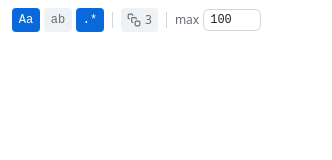
it: the max box › marks  red and invalid, with the rule under the line
Clear the field named "Most matches" at (232, 20), box top-left (203, 9), bottom-right (261, 31)
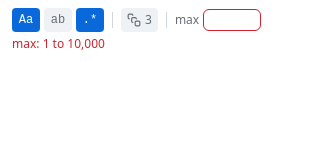
Expected: the text "max: 1 to 10,000" is shown, top-left (12, 35), bottom-right (105, 52)
